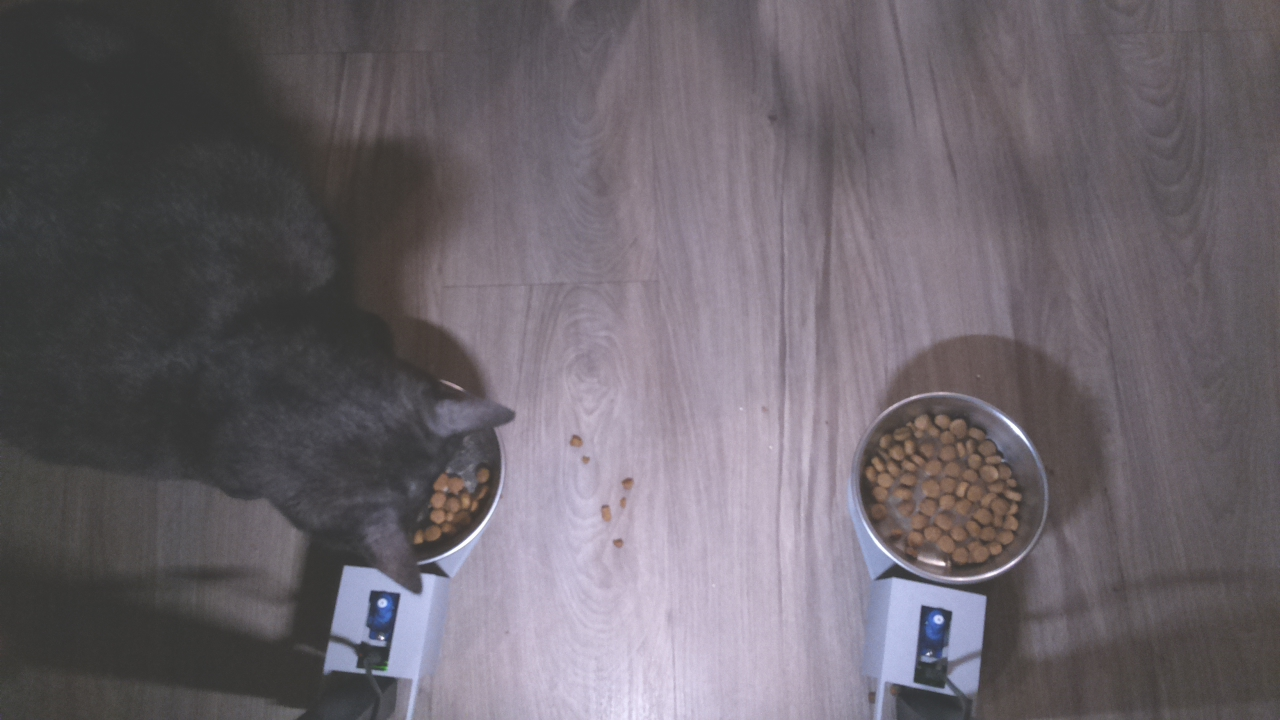open_bowl: (850, 387, 1050, 589)
saki_eating: (273, 316, 514, 606)
